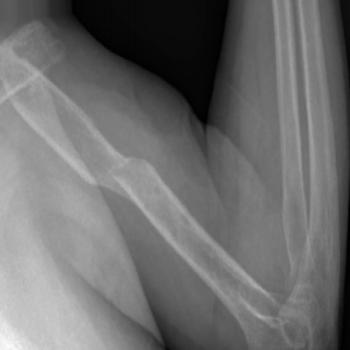Fracture: (86, 139, 156, 190)
